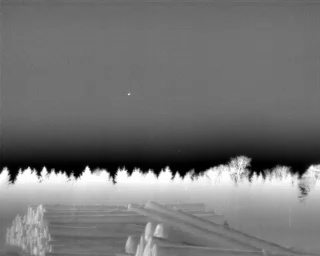BIRD: (126, 91, 132, 97)
